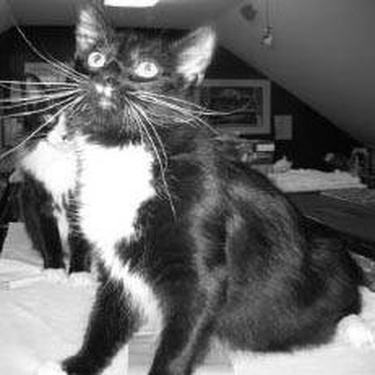cat: (11, 14, 352, 364)
